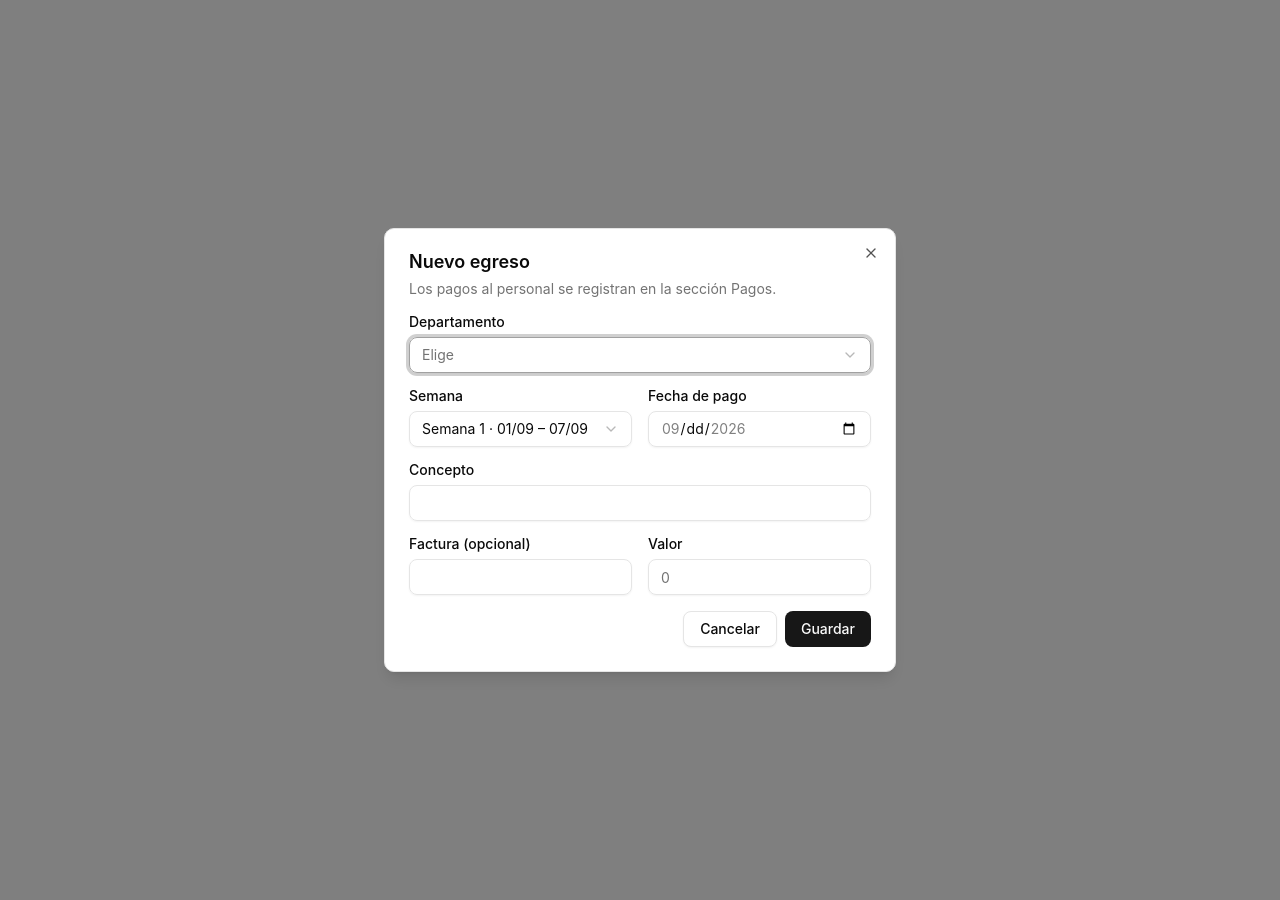
Scenario: ExpenseFormDialog › CA-15 la semana limita el calendario y la fecha elige la semana
Type "2026-09-16" into the date field labelled "Fecha de pago" at (760, 429), box [648,411,871,447]
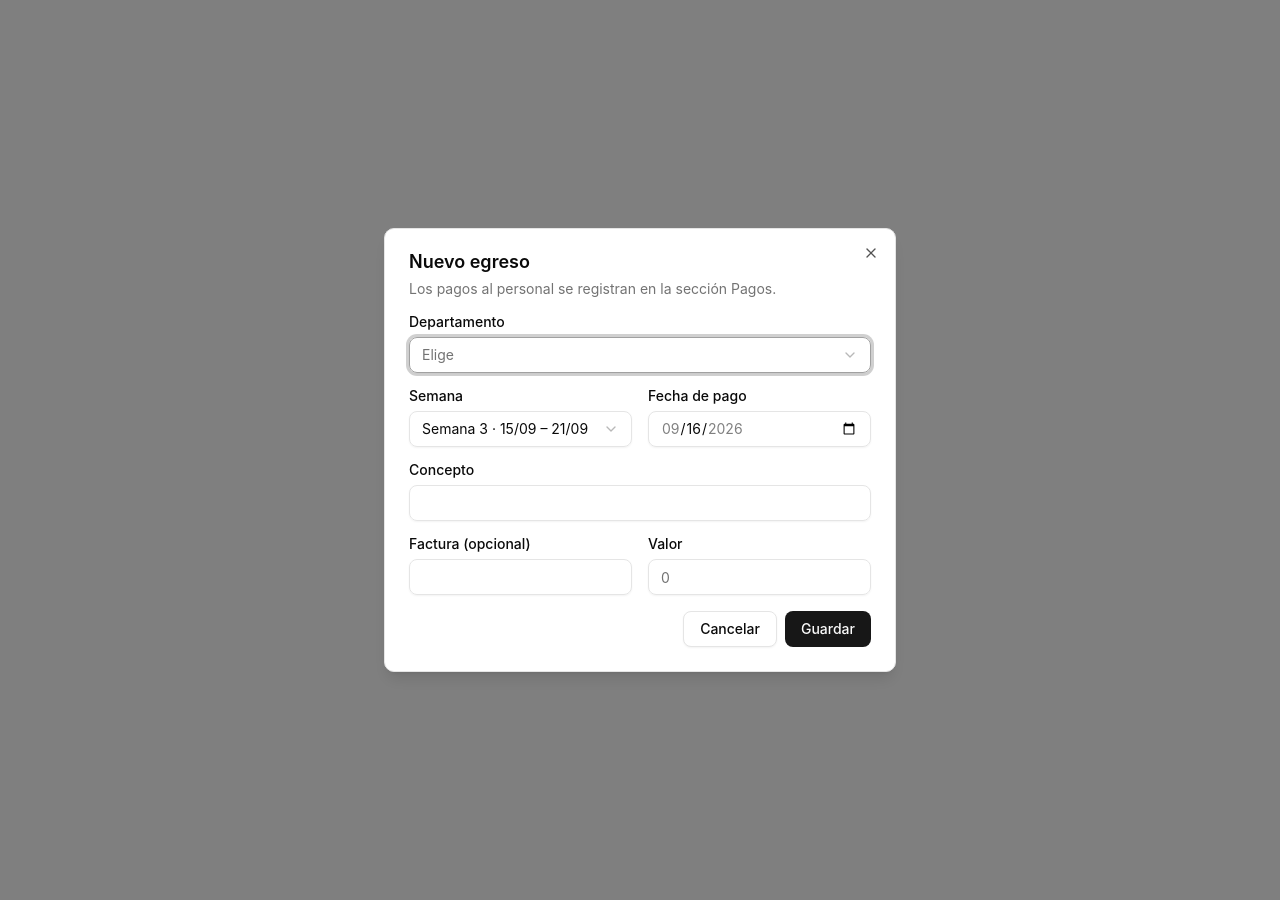
Expected: the dropdown labelled "Semana" shows "Semana 3", [409,411,632,447]
Type "2026-09-30" into the date field labelled "Fecha de pago" at (760, 429), box [648,411,871,447]
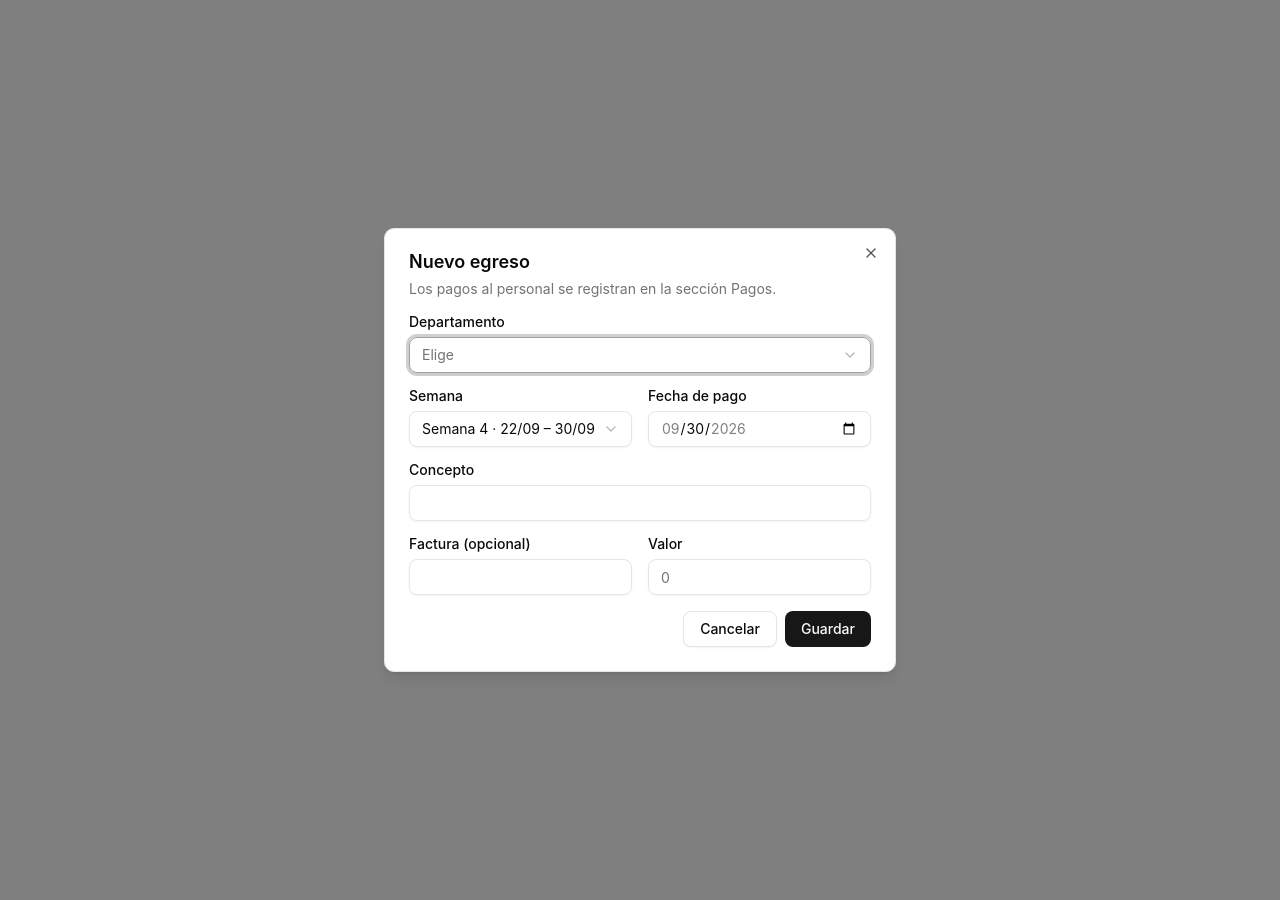
Expected: the dropdown labelled "Semana" shows "Semana 4", [409,411,632,447]
